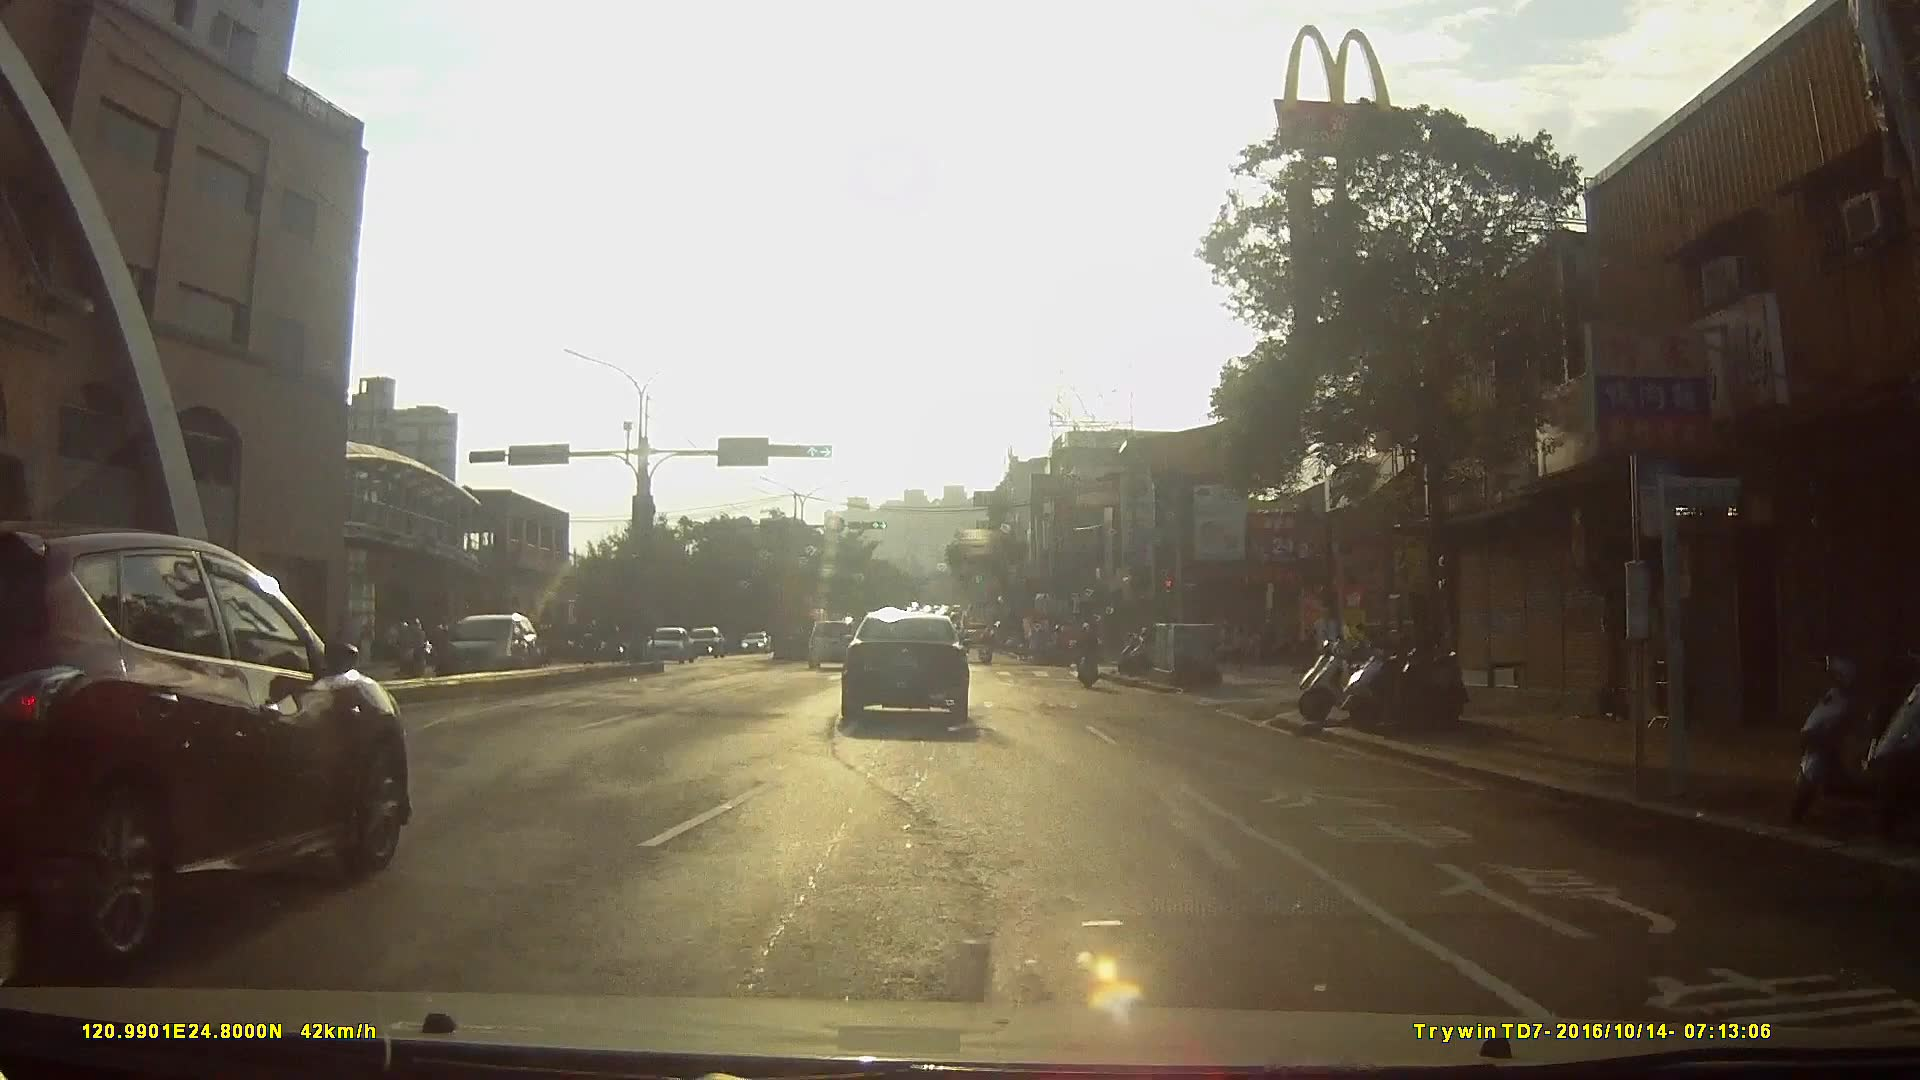rider: (1076, 622, 1102, 691), (1039, 626, 1075, 668), (976, 627, 998, 669)
vehicle: (1, 519, 422, 980), (838, 611, 982, 735), (431, 613, 547, 689), (803, 617, 862, 672), (642, 625, 696, 671), (685, 628, 728, 662), (738, 629, 774, 655)
